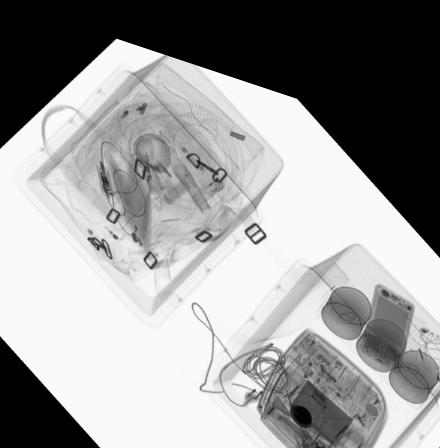Lighter: (189, 161, 224, 197)
